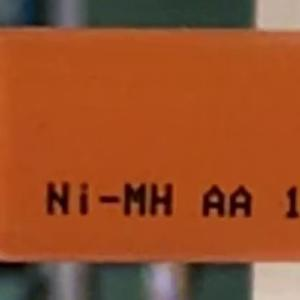NI-MH: (36, 174, 182, 225)
